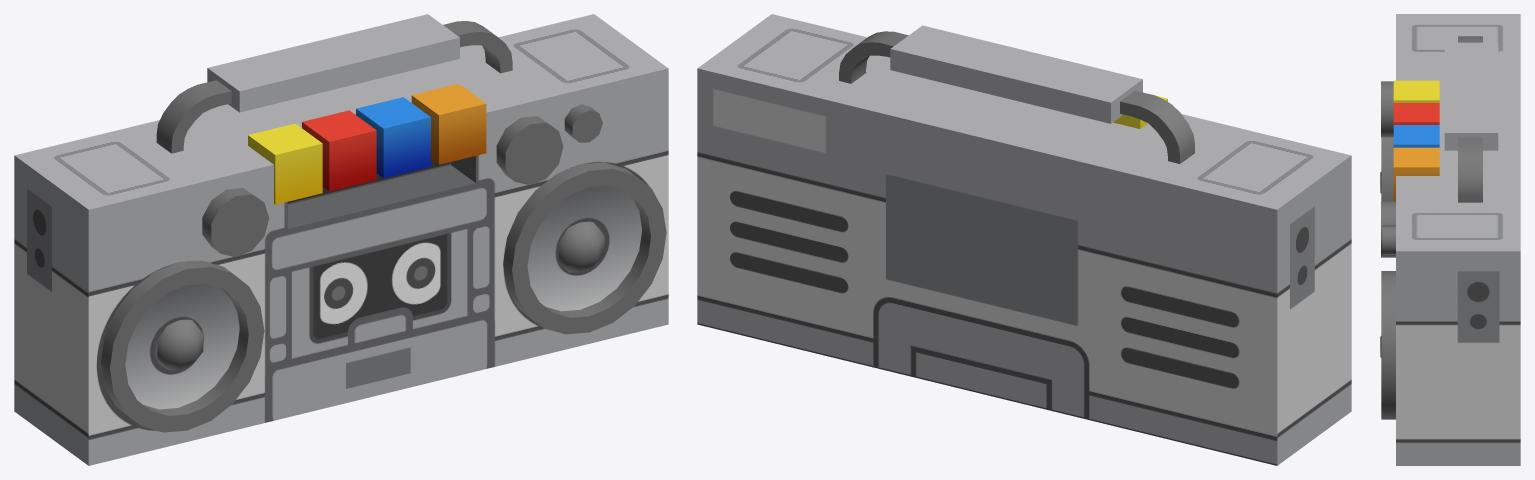
The model's file is boombox.fbx.
3 views of the same model, side by side, from view 1: azimuth 30°, elevation 25°; view 2: azimuth 150°, elevation 25°; view 3: azimuth 270°, elevation 25° (orthographic). The views are drawn at different scales.
Parts seen in each view (by area): view 1: boombox; view 2: boombox; view 3: boombox.
Boxes of the visible parts, x1,y1,x2,y2 form: boombox: (14,14,668,465); boombox: (697,14,1351,465); boombox: (1380,14,1520,465).
Bounding box in the file's own units: 293 × 150 × 73.45.
1 material, 1 textured.
